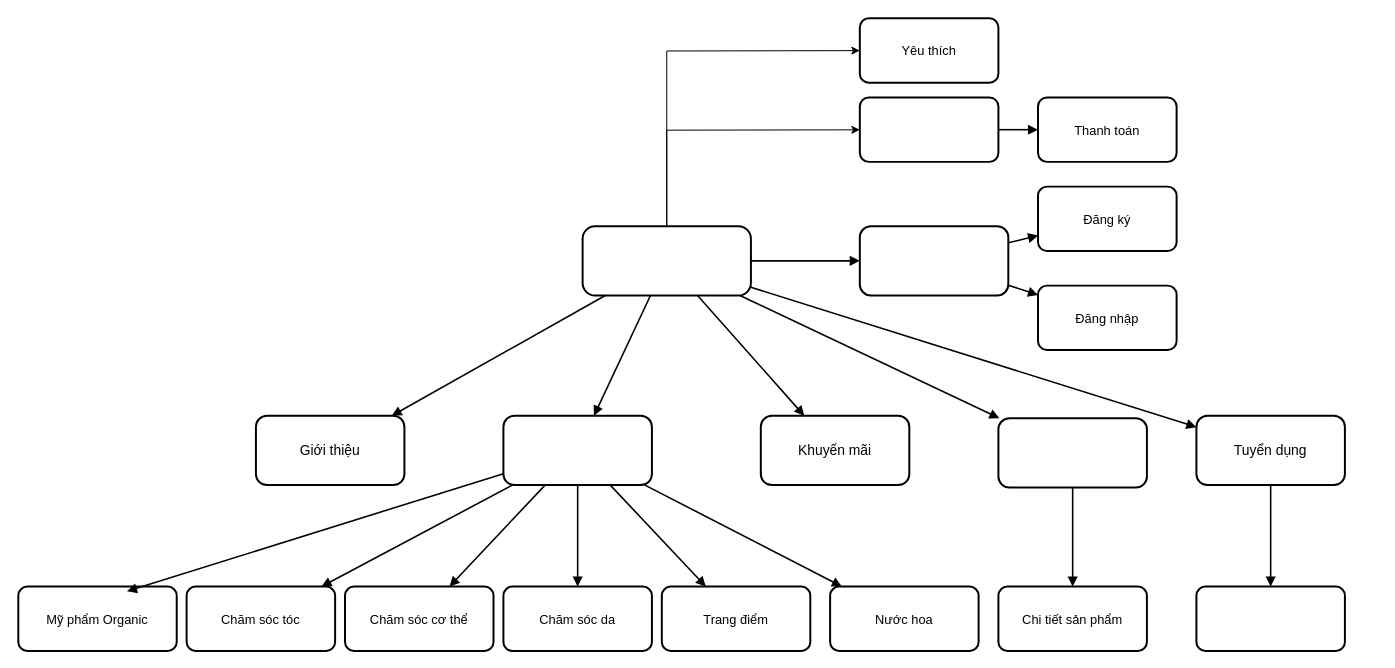
Image size: 1395x668. Some labels were removed from this diagram. The box of each missing label's shape, as (x1, y1, x2, y2) in pixels:
Danh mục sản phẩm: (502, 414, 652, 486)
Form ứng tuyển: (1195, 585, 1345, 651)
Giỏ hàng: (858, 96, 999, 162)
Sản phẩm mới: (997, 417, 1147, 488)
Trang chủ: (581, 225, 751, 296)
Tài khoản: (858, 225, 1009, 296)
